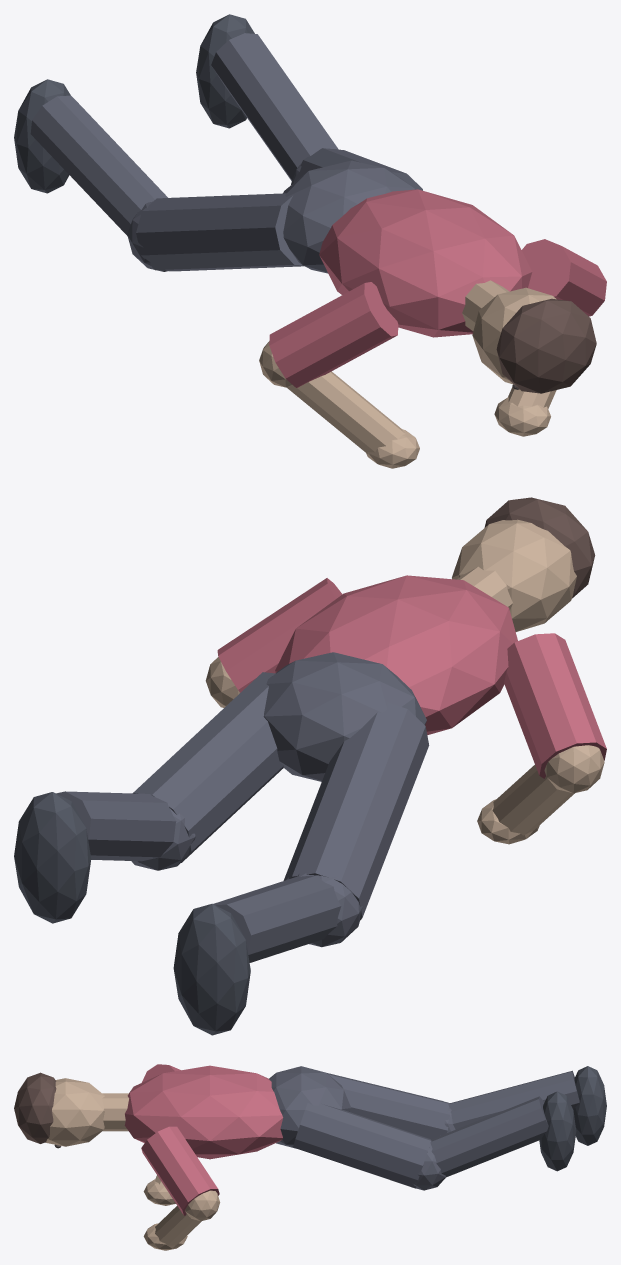
3 renders of one model, top to bottom at view 1: azimuth 30°, elevation 25°; view 2: azimuth 150°, elevation 25°; view 3: azimuth 270°, elevation 25°, orthographic. The views are drawn at different scales.
Visible parts, largest first — view 1: world; view 2: world; view 3: world.
Boxes of the visible parts, <box> form: world: <box>14,14,606,468</box>; world: <box>14,497,606,1035</box>; world: <box>14,1064,606,1250</box>.
Bounding box in the file's own units: 0.93 × 0.57 × 2.01.
